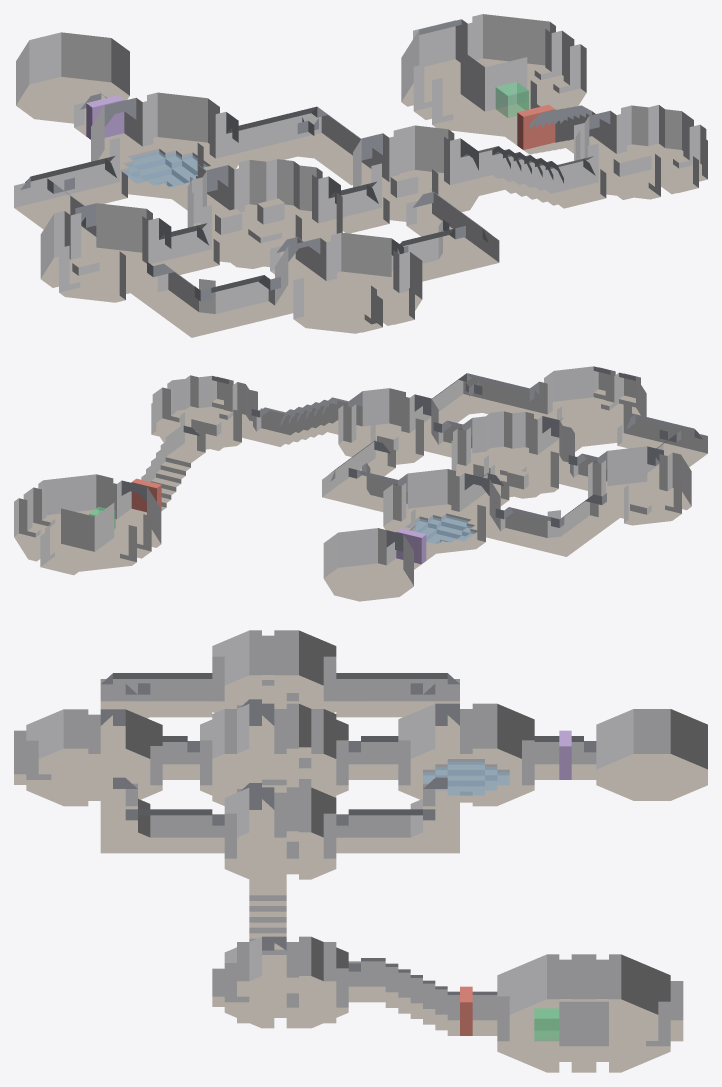
The model's file is pod_research_02.glb.
The picture shows the model from 3 angles, top to bottom: view 1: azimuth 30°, elevation 25°; view 2: azimuth 150°, elevation 25°; view 3: azimuth 270°, elevation 25°; orthographic projection. The views are drawn at different scales.
Visible parts, largest first — view 1: room:5, room:6, room:0, room:7, room:1, room:4, room:2, corridor:0, corridor:2, room:3, corridor:3, corridor:7 (+21 smaller); view 2: room:5, room:6, room:7, room:1, room:0, room:4, room:2, room:3, corridor:1, corridor:7, corridor:2, corridor:3 (+21 smaller); view 3: room:5, room:6, room:0, room:7, room:2, room:4, room:3, room:1, corridor:7, corridor:2, corridor:4, corridor:1 (+18 smaller).
Part boxes in pixels (left/top/right/bottom): room:5: left=401, top=14, right=586, bottom=136; room:6: left=187, top=159, right=342, bottom=268; room:0: left=275, top=232, right=422, bottom=333; room:7: left=16, top=32, right=129, bottom=124; room:1: left=40, top=203, right=171, bottom=302; room:4: left=574, top=105, right=707, bottom=199; room:2: left=91, top=92, right=238, bottom=199; corridor:0: left=137, top=262, right=286, bottom=337; corridor:2: left=226, top=106, right=382, bottom=185; room:3: left=353, top=125, right=478, bottom=222; corridor:3: left=460, top=146, right=606, bottom=208; corridor:7: left=391, top=189, right=499, bottom=281; room:5: left=14, top=474, right=161, bottom=571; room:6: left=451, top=411, right=574, bottom=498; room:7: left=323, top=528, right=413, bottom=601; room:1: left=588, top=446, right=691, bottom=525; room:0: left=529, top=366, right=646, bottom=446; room:4: left=151, top=375, right=257, bottom=450; room:2: left=383, top=469, right=500, bottom=553; room:3: left=338, top=388, right=438, bottom=465; corridor:1: left=491, top=493, right=614, bottom=556; corridor:7: left=414, top=373, right=539, bottom=433; corridor:2: left=322, top=440, right=407, bottom=511; corridor:3: left=247, top=397, right=362, bottom=446; room:5: left=497, top=954, right=670, bottom=1072; room:6: left=200, top=703, right=348, bottom=811; room:0: left=26, top=709, right=162, bottom=806; room:7: left=596, top=709, right=707, bottom=800; room:2: left=398, top=703, right=534, bottom=806; room:4: left=224, top=936, right=348, bottom=1028; room:3: left=224, top=787, right=336, bottom=879; room:1: left=212, top=630, right=336, bottom=727; corridor:7: left=100, top=777, right=224, bottom=853; corridor:2: left=336, top=777, right=459, bottom=853; corridor:4: left=348, top=958, right=497, bottom=1035; corridor:1: left=336, top=673, right=459, bottom=748.
Size of the model in its own units: 63 by 10 by 56.
